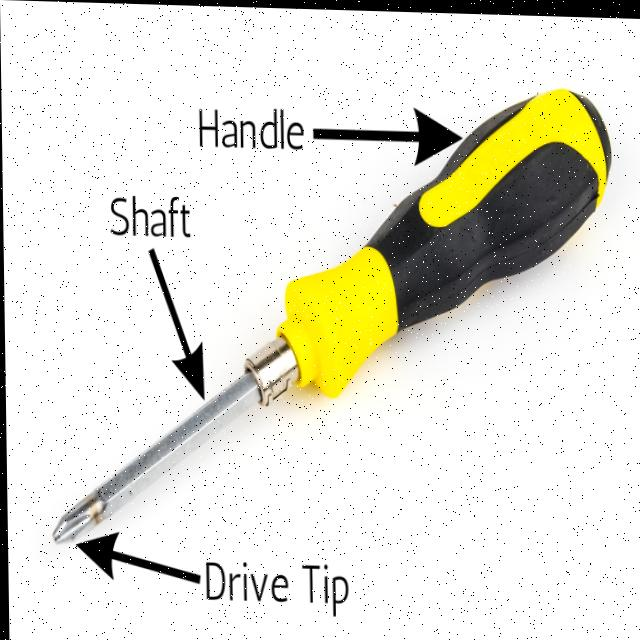Screwdriver: (52, 85, 610, 542)
